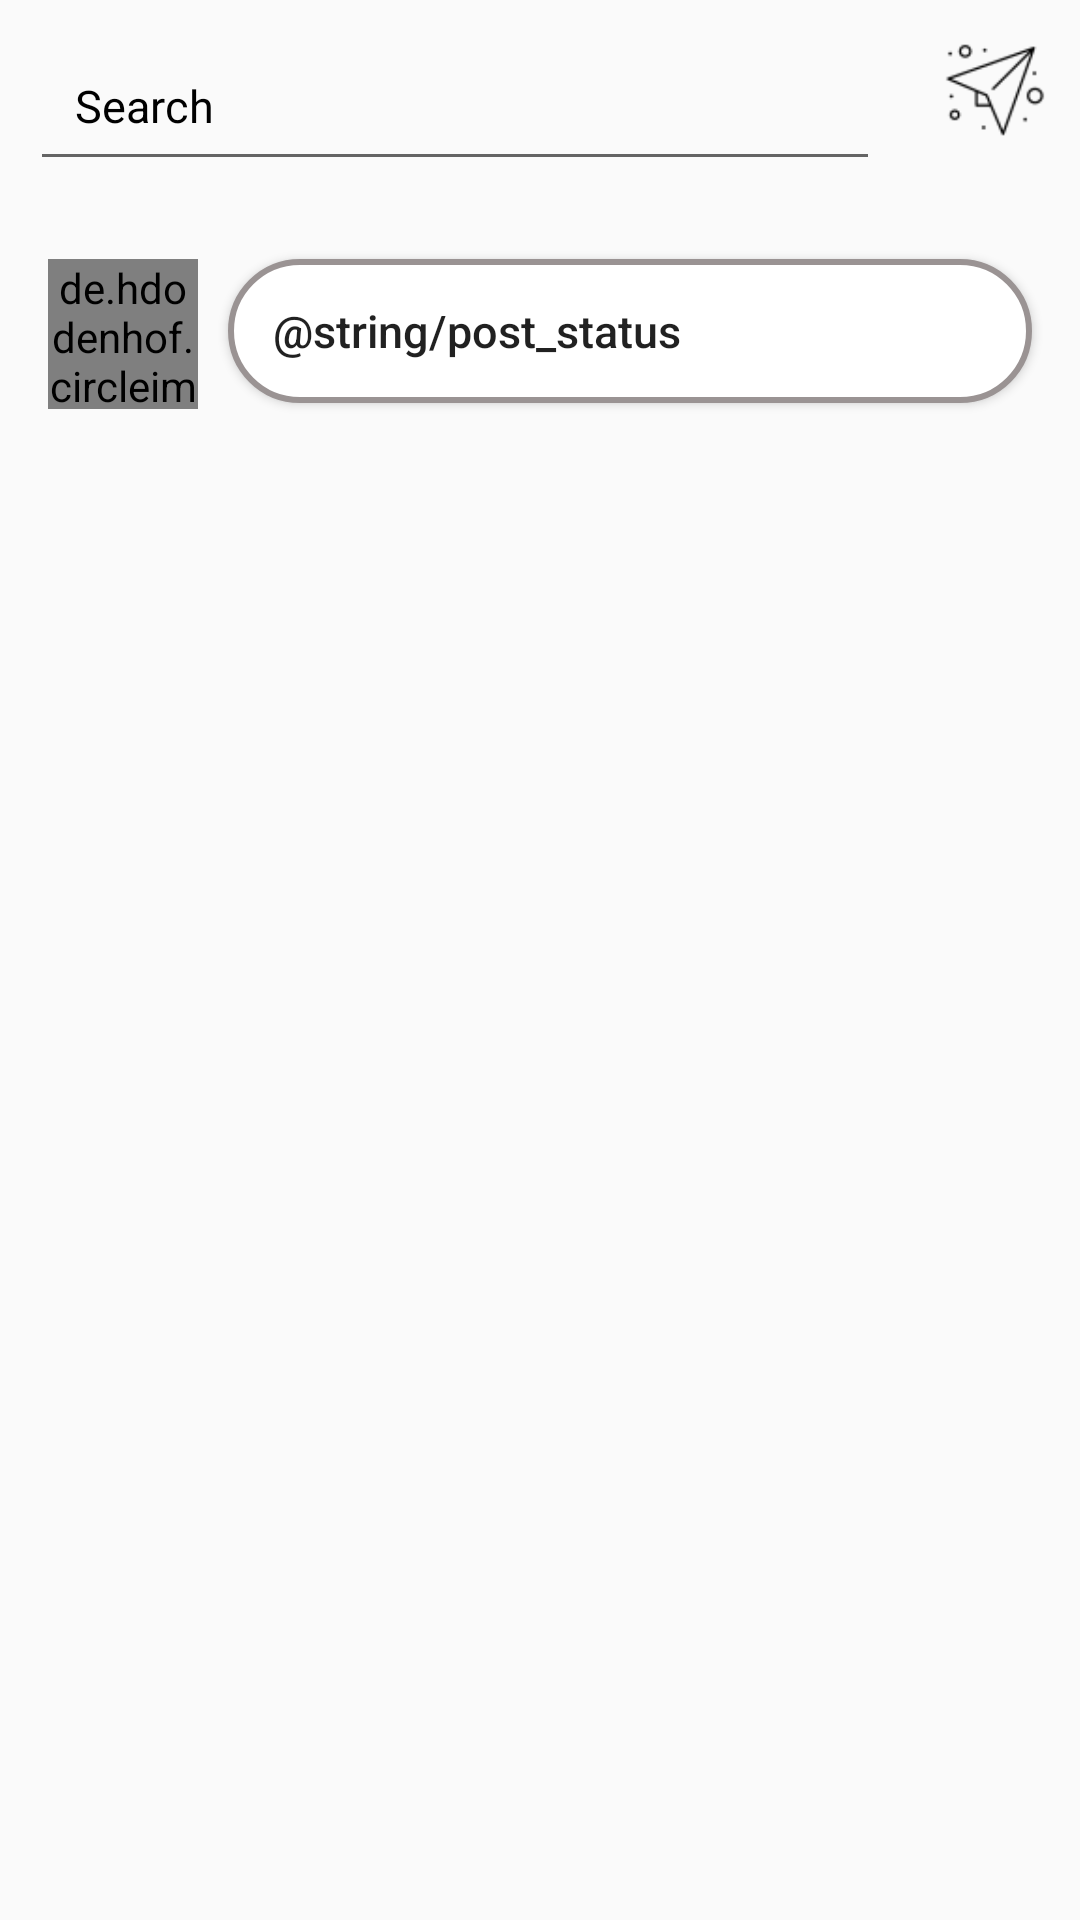

Where to tap for icons on this 1080px x 1920px app screen, as [x,y]:
message: [995,90]
